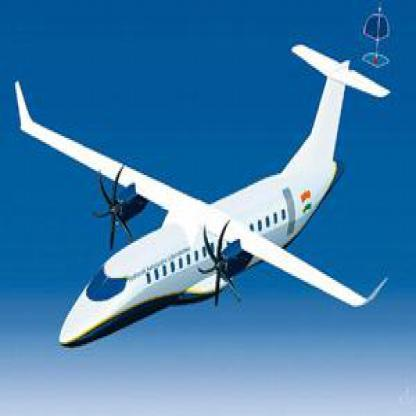CIV_Plane: (4, 38, 397, 349)
